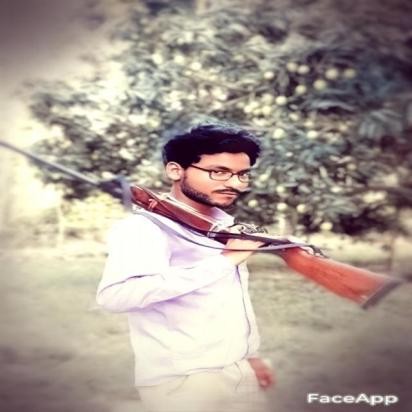Gun: (0, 139, 405, 312)
